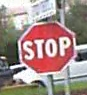stop: (16, 20, 75, 73)
